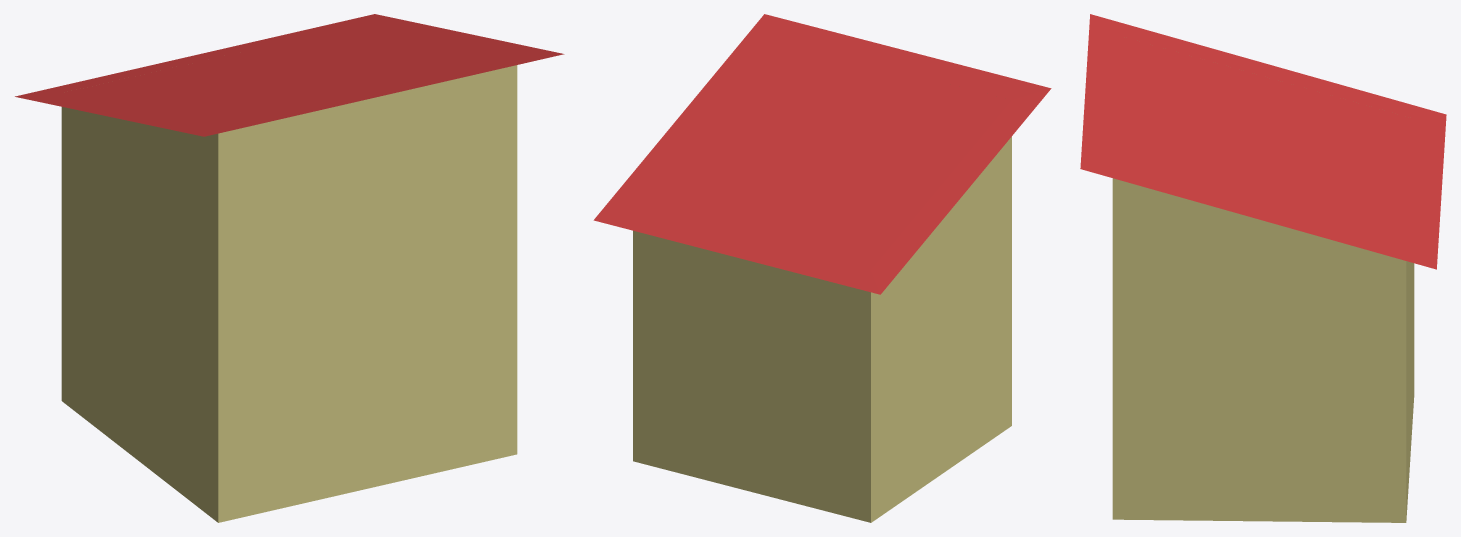
3 renders of one model, left to right at view 1: azimuth 30°, elevation 25°; view 2: azimuth 150°, elevation 25°; view 3: azimuth 270°, elevation 25°, orthographic. The views are drawn at different scales.
Size of the model in its own units: 6 by 5.84 by 6.4.
